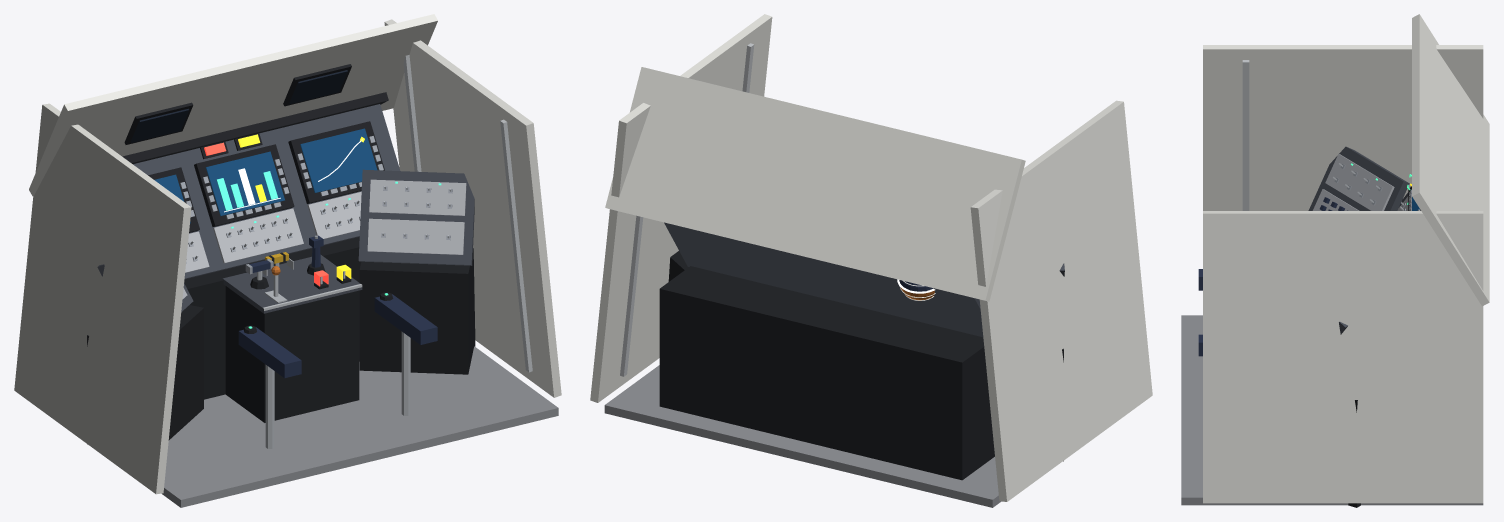
The model's file is cockpit_pilot.glb.
3 renders of one model, left to right at view 1: azimuth 30°, elevation 25°; view 2: azimuth 150°, elevation 25°; view 3: azimuth 270°, elevation 25°, orthographic. The views are drawn at different scales.
Visible parts, largest first — view 1: CockpitPilot_Hull, CockpitPilot_HullBlack, CockpitPilot_Titanium, CockpitPilot_Strap, CockpitPilot_SuitGrey, CockpitPilot_Display, CockpitPilot_Pack, CockpitPilot_Aluminum, CockpitPilot_Visor, CockpitPilot_Steel, CockpitPilot_Metal, CockpitPilot_LedGreen; view 2: CockpitPilot_Hull, CockpitPilot_HullBlack, CockpitPilot_Strap, CockpitPilot_Titanium, CockpitPilot_Aluminum; view 3: CockpitPilot_Hull, CockpitPilot_Titanium, CockpitPilot_SuitGrey, CockpitPilot_Strap, CockpitPilot_Aluminum, Breaker_Bank_SuitGrey.
Part boxes in pixels (x1=…): CockpitPilot_Hull: x1=14, y1=14, x2=561, y2=494; CockpitPilot_HullBlack: x1=87, y1=64, x2=475, y2=444; CockpitPilot_Titanium: x1=162, y1=346, x2=558, y2=507; CockpitPilot_Strap: x1=97, y1=104, x2=474, y2=313; CockpitPilot_SuitGrey: x1=185, y1=179, x2=466, y2=272; CockpitPilot_Display: x1=154, y1=128, x2=377, y2=223; CockpitPilot_Pack: x1=238, y1=294, x2=437, y2=378; CockpitPilot_Aluminum: x1=263, y1=55, x2=532, y2=372; CockpitPilot_Visor: x1=130, y1=70, x2=347, y2=142; CockpitPilot_Steel: x1=186, y1=186, x2=451, y2=448; CockpitPilot_Metal: x1=180, y1=136, x2=452, y2=263; CockpitPilot_LedGreen: x1=217, y1=171, x2=441, y2=328; CockpitPilot_Hull: x1=590, y1=14, x2=1152, y2=501; CockpitPilot_HullBlack: x1=659, y1=251, x2=1063, y2=480; CockpitPilot_Strap: x1=664, y1=222, x2=1064, y2=337; CockpitPilot_Titanium: x1=604, y1=365, x2=1001, y2=507; CockpitPilot_Aluminum: x1=620, y1=43, x2=754, y2=376; CockpitPilot_Hull: x1=1203, y1=14, x2=1489, y2=503; CockpitPilot_Titanium: x1=1181, y1=315, x2=1483, y2=505; CockpitPilot_SuitGrey: x1=1325, y1=154, x2=1408, y2=210; CockpitPilot_Strap: x1=1308, y1=146, x2=1409, y2=334; CockpitPilot_Aluminum: x1=1242, y1=60, x2=1249, y2=210; Breaker_Bank_SuitGrey: x1=1312, y1=189, x2=1359, y2=210.
Bounding box in the file's own units: 2.15 × 1.59 × 1.43.
